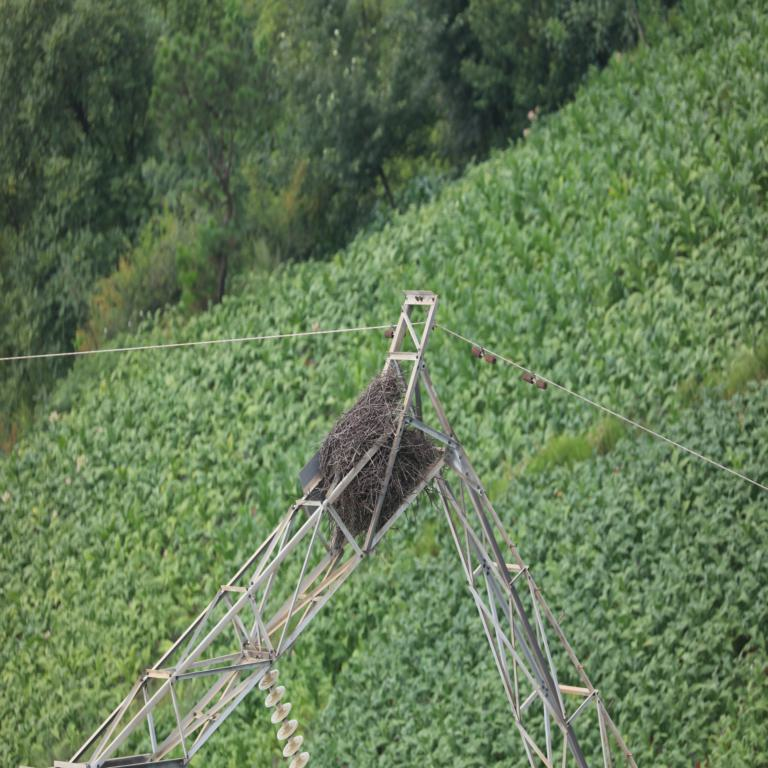nest: (315, 376, 433, 539)
